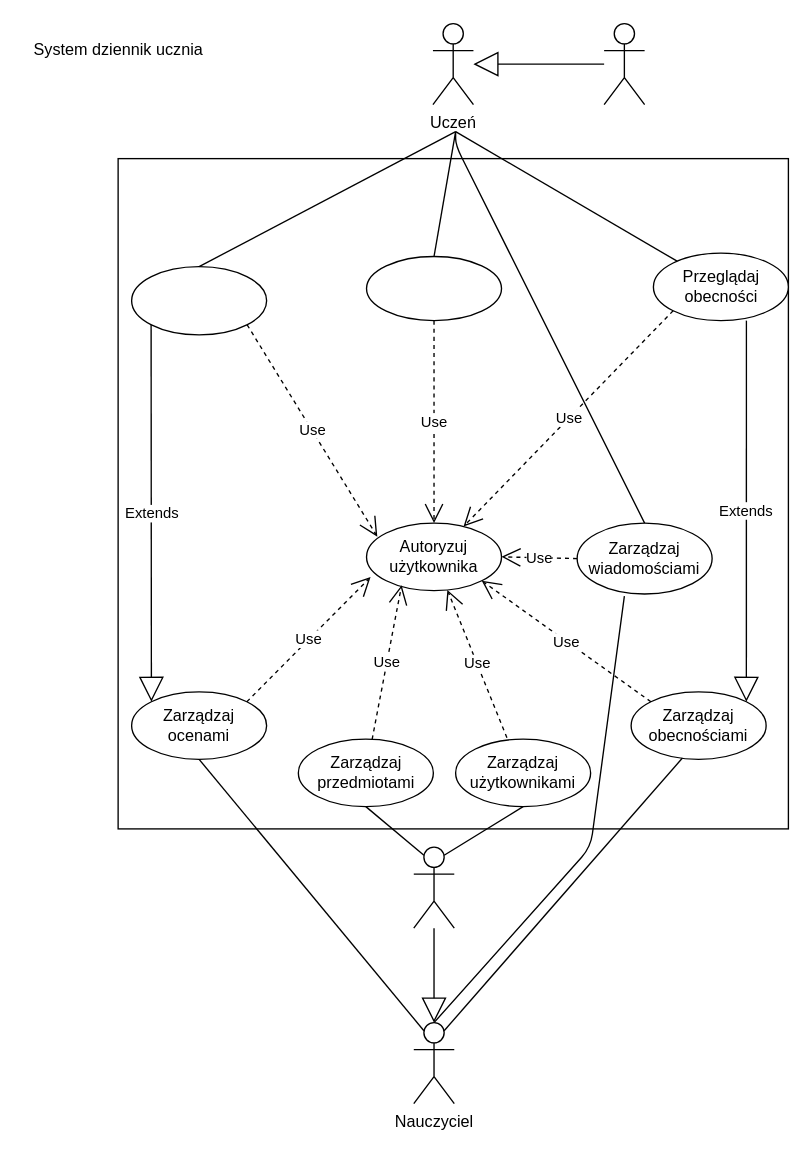
The diagram is 811 pixels wide and 1156 high, and some of its shapes have lost their labels. The shapes that lost their labels are listed below. From the top down, each one's centre as x and y in pixels, then its label:
At point 624,63: "Rodzic".
At point 198,300: "Przeglądaj oceny".
At point 433,288: "Generuj raport postępów".
At point 433,887: "Administrator".
